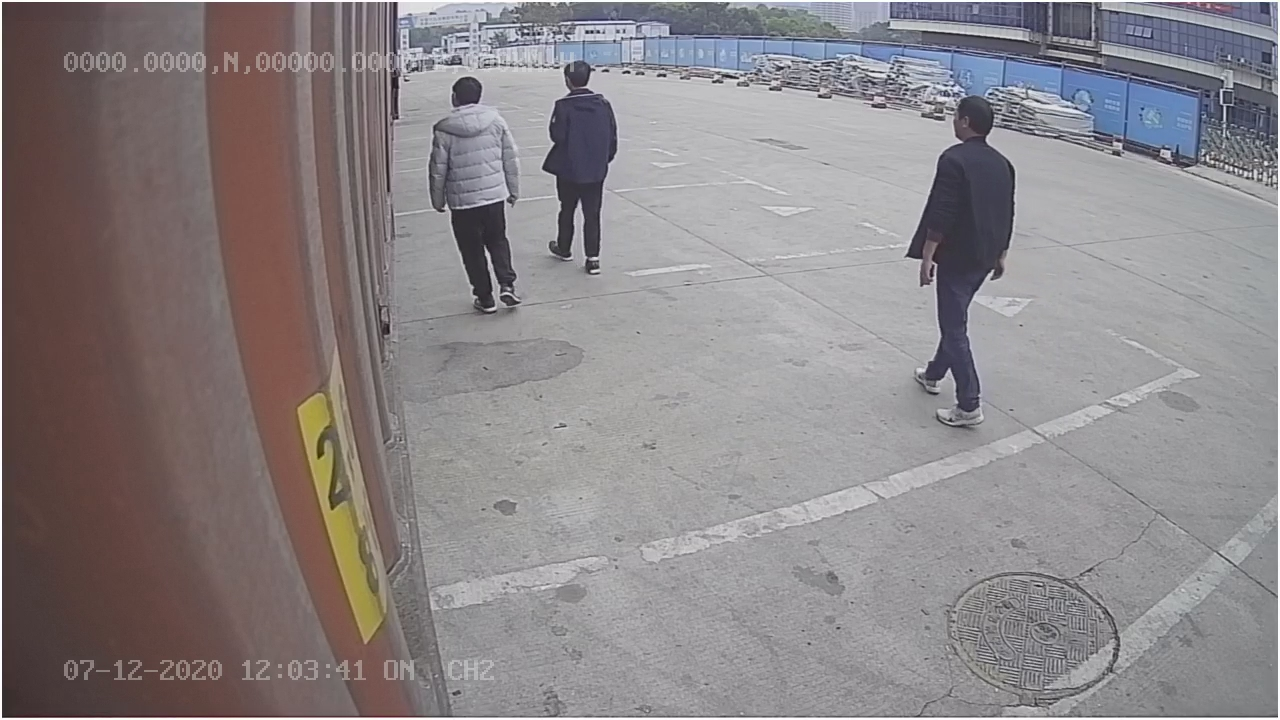person: (906, 86, 1019, 431), (424, 68, 526, 322), (542, 54, 618, 280)
